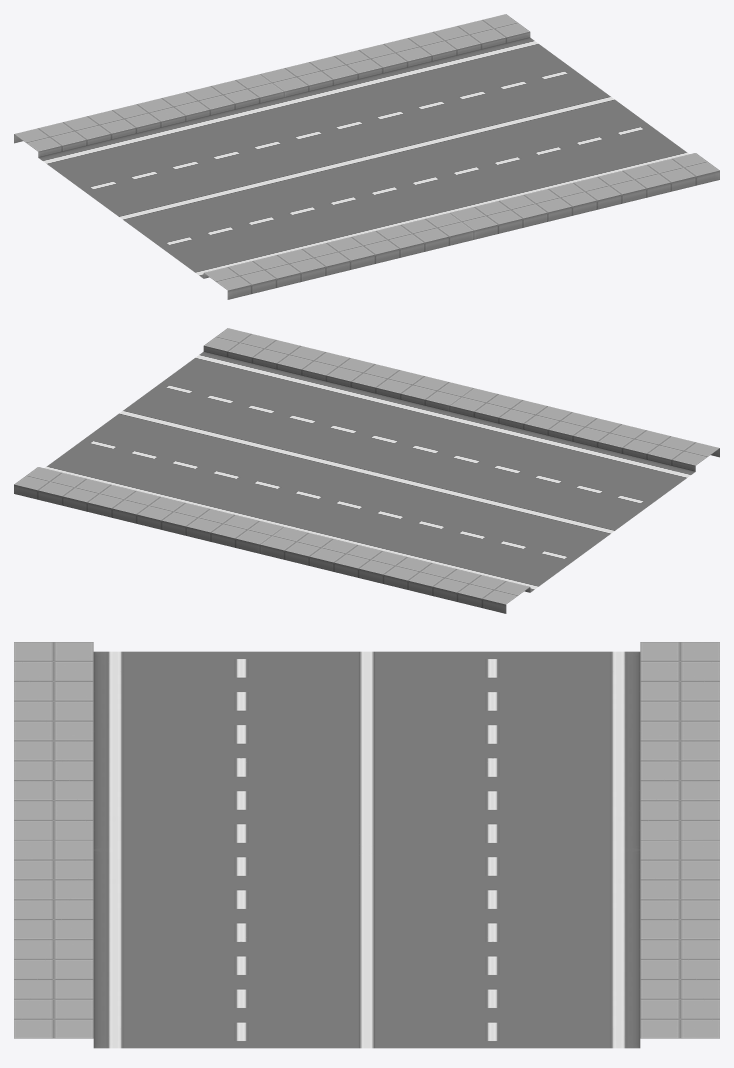
The model's file is Road.fbx.
3 renders of one model, top to bottom at view 1: azimuth 30°, elevation 25°; view 2: azimuth 150°, elevation 25°; view 3: azimuth 270°, elevation 25°, orthographic. The views are drawn at different scales.
Visible parts, largest first — view 1: Object004; view 2: Object004; view 3: Object004.
Boxes of the visible parts, <box> form: Object004: <box>14,14,719,299</box>; Object004: <box>14,328,719,613</box>; Object004: <box>14,642,719,1048</box>.
Bounding box in the file's own units: 1200 × 21.83 × 903.
